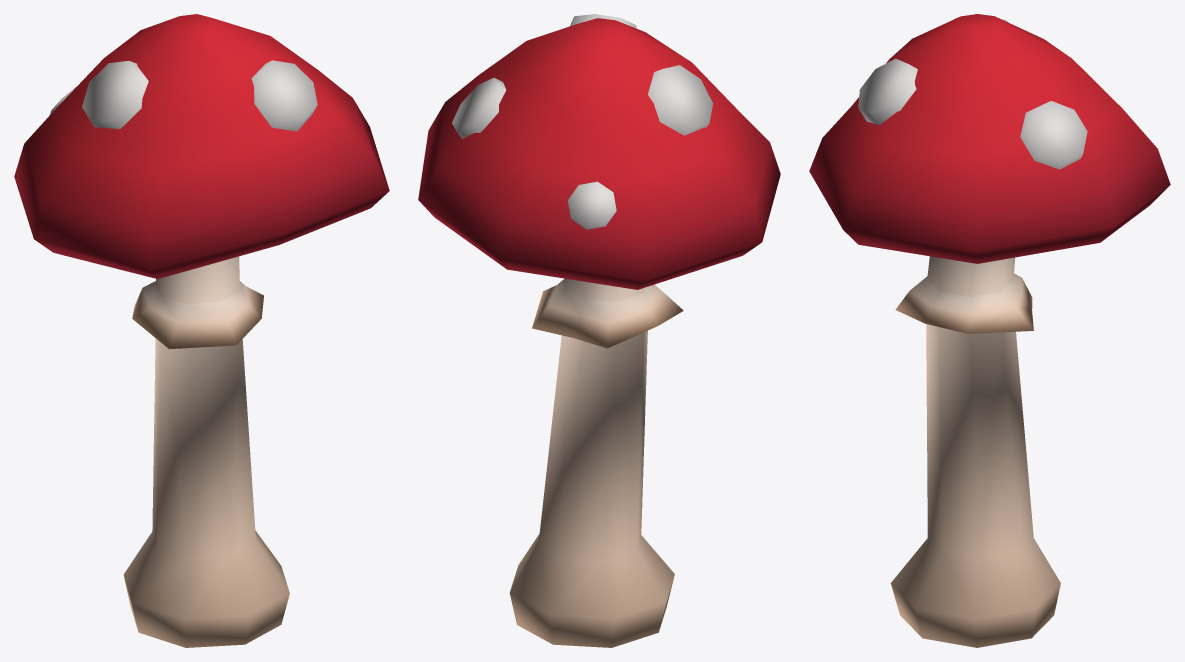
Rendered from Mushroom3_Color1.fbx.
3 views of the same model, side by side, from view 1: azimuth 30°, elevation 25°; view 2: azimuth 150°, elevation 25°; view 3: azimuth 270°, elevation 25° (orthographic).
Parts seen in each view (by area): view 1: Mushroom3_Color1; view 2: Mushroom3_Color1; view 3: Mushroom3_Color1.
Boxes of the visible parts, left/top/right/bottom form: Mushroom3_Color1: left=14, top=14, right=389, bottom=647; Mushroom3_Color1: left=418, top=14, right=780, bottom=647; Mushroom3_Color1: left=809, top=14, right=1170, bottom=647.
Bounding box in the file's own units: 9.42 × 15.97 × 8.88.
